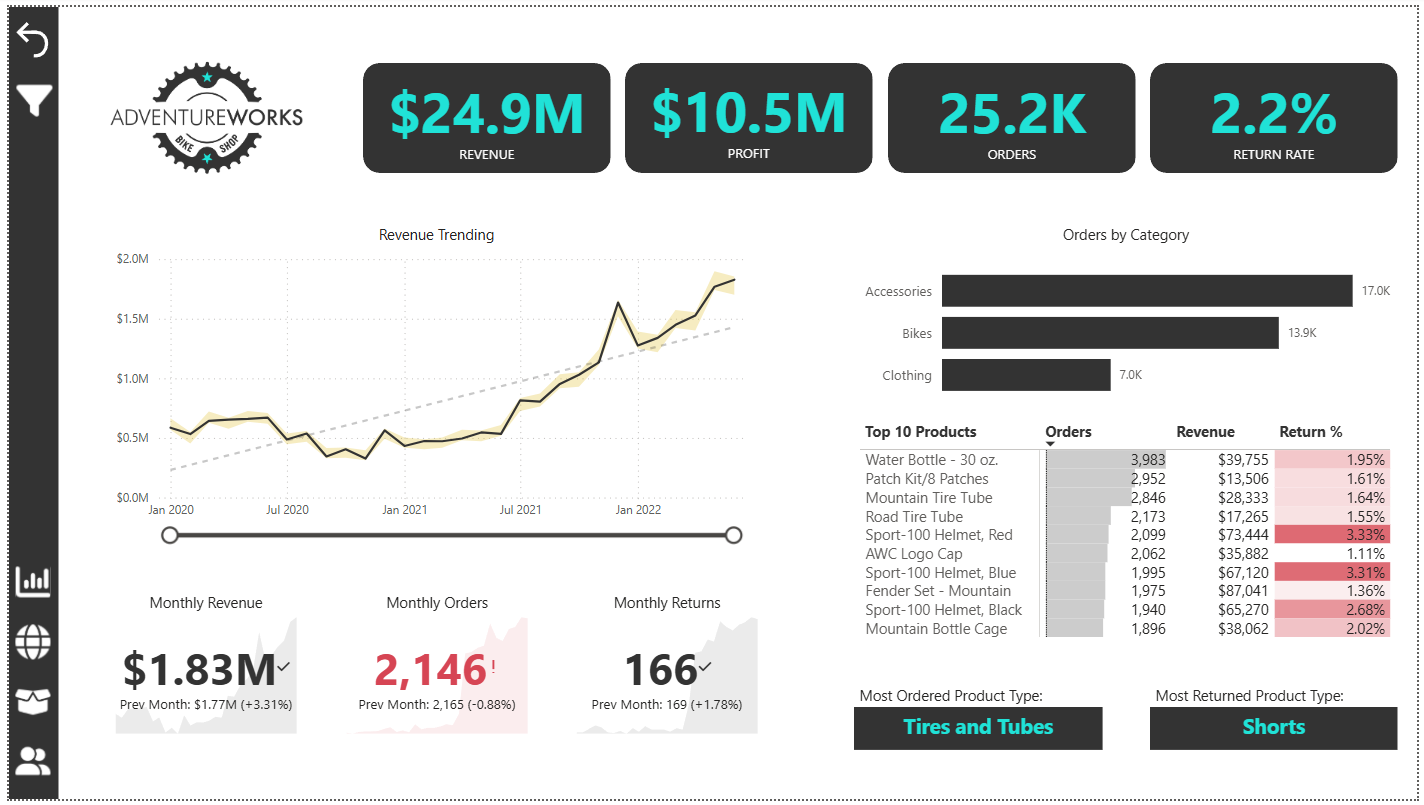

The dashboard page shown, as its layout file describes it:
{"tool":"powerbi","page":{"name":"Exec Dashboard","canvas":[1280,720],"ordinal":0},"visuals":[{"type":"image","title":"AW logo","box":[68.2,28.2,223.6,144.5],"z":0},{"type":"card","fields":{"Values":["Measure Table.Total Revenue"]},"box":[321.9,50.6,225.2,100.2],"z":0,"group":"g2"},{"type":"group","id":"g1","title":"KPI Backgrounds","box":[321.8,51,940.9,100],"z":0,"group":"g3"},{"type":"shape","box":[321.8,51,225.5,100],"z":0,"group":"g1"},{"type":"actionButton","box":[2.2,502.8,42.6,39.9],"z":0,"group":"g4"},{"type":"shape","title":"Left Nav Background","box":[0,0,45,720],"z":1000},{"type":"group","id":"g2","title":"KPI Values","box":[321.9,49.7,940.9,101.3],"z":1000,"group":"g3"},{"type":"card","fields":{"Values":["Measure Table.Total Profit"]},"box":[560.4,49.7,225.2,100.2],"z":1000,"group":"g2"},{"type":"shape","box":[560.3,51,225.5,100],"z":1000,"group":"g1"},{"type":"actionButton","box":[2.2,557.2,42.6,39.9],"z":1000,"group":"g4"},{"type":"group","id":"g3","title":"KPIs","box":[321.8,49.7,940.9,101.3],"z":2000},{"type":"card","fields":{"Values":["Measure Table.Total Orders"]},"box":[798.8,51,225.5,100],"z":2000,"group":"g2"},{"type":"shape","box":[798.8,51,225.5,100],"z":2000,"group":"g1"},{"type":"actionButton","box":[2.2,611.6,42.6,39.9],"z":2000,"group":"g4"},{"type":"shape","box":[1037.3,51,225.5,100],"z":3000,"group":"g1"},{"type":"card","fields":{"Values":["Measure Table.Return Rate"]},"box":[1037.3,51,225.5,100],"z":3000,"group":"g2"},{"type":"lineChart","title":"Revenue Trending","fields":{"Category":["Calendar Lookup.Start of Month"],"Y":["Measure Table.Total Revenue"]},"box":[91.8,198.2,593.6,292.7],"z":3000},{"type":"actionButton","box":[2.2,666,42.6,39.9],"z":3000,"group":"g4"},{"type":"kpi","title":"Monthly Revenue","fields":{"Goal":["Measure Table.Previous Month Revenue"],"Indicator":["Measure Table.Total Revenue"],"TrendLine":["Calendar Lookup.Start of Month"]},"box":[92.2,532.9,174.7,133],"z":4000},{"type":"kpi","title":"Monthly Orders","fields":{"Goal":["Measure Table.Previous Month Orders"],"Indicator":["Measure Table.Total Orders"],"TrendLine":["Calendar Lookup.Start of Month"]},"box":[301.5,532.9,174.7,133],"z":5000},{"type":"kpi","title":"Monthly Returns","fields":{"Goal":["Measure Table.Previous Month Returns"],"Indicator":["Measure Table.Total Returns"],"TrendLine":["Calendar Lookup.Start of Month"]},"box":[510.7,532.9,174.7,133],"z":6000},{"type":"clusteredBarChart","title":"Orders by Category","fields":{"Category":["Product Categories Lookup.CategoryName"],"Y":["Measure Table.Total Orders"]},"box":[768.2,198.2,494.5,172.7],"z":7000},{"type":"pivotTable","fields":{"Rows":["Product Categories Lookup.CategoryName","Product Lookup.ProductName"],"Values":["Measure Table.Total Orders","Measure Table.Total Revenue","Measure Table.Return Rate"]},"box":[767.9,371.5,494.8,213.7],"z":8000},{"type":"card","fields":{"Values":["Min(Product Subcategories Lookup.SubcategoryName)"]},"box":[767.9,636.7,226.1,39],"z":9000},{"type":"textbox","box":[767.9,611.8,176.5,36.4],"z":10000},{"type":"card","fields":{"Values":["Min(Product Subcategories Lookup.SubcategoryName)"]},"box":[1037.4,636.7,225.2,39],"z":11000},{"type":"textbox","box":[1037.4,611.8,185.3,36.4],"z":12000},{"type":"actionButton","box":[0,8,44.9,42.9],"z":13000},{"type":"group","id":"g4","title":"Navigation Buttons","box":[2.2,502.8,42.6,203.1],"z":14000},{"type":"actionButton","box":[2.7,63,40.8,45.2],"z":15000}]}

Visuals, with their boxes on the page's 1280x720 design canvas (x1, y1, x2, y2). These are canvas units, not pixel positions in the 1424x805 screenshot, which may show the page scaled, cropped or inside an application window:
"AW logo" image: <bbox>68, 28, 292, 173</bbox>
card - Measure Table.Total Revenue: <bbox>322, 51, 547, 151</bbox>
"KPI Backgrounds" group: <bbox>322, 51, 1263, 151</bbox>
shape: <bbox>322, 51, 547, 151</bbox>
actionButton: <bbox>2, 503, 45, 543</bbox>
"Left Nav Background" shape: <bbox>0, 0, 45, 720</bbox>
"KPI Values" group: <bbox>322, 50, 1263, 151</bbox>
card - Measure Table.Total Profit: <bbox>560, 50, 786, 150</bbox>
shape: <bbox>560, 51, 786, 151</bbox>
actionButton: <bbox>2, 557, 45, 597</bbox>
"KPIs" group: <bbox>322, 50, 1263, 151</bbox>
card - Measure Table.Total Orders: <bbox>799, 51, 1024, 151</bbox>
shape: <bbox>799, 51, 1024, 151</bbox>
actionButton: <bbox>2, 612, 45, 652</bbox>
shape: <bbox>1037, 51, 1263, 151</bbox>
card - Measure Table.Return Rate: <bbox>1037, 51, 1263, 151</bbox>
"Revenue Trending" lineChart: <bbox>92, 198, 685, 491</bbox>
actionButton: <bbox>2, 666, 45, 706</bbox>
"Monthly Revenue" kpi: <bbox>92, 533, 267, 666</bbox>
"Monthly Orders" kpi: <bbox>302, 533, 476, 666</bbox>
"Monthly Returns" kpi: <bbox>511, 533, 685, 666</bbox>
"Orders by Category" clusteredBarChart: <bbox>768, 198, 1263, 371</bbox>
pivotTable - Product Categories Lookup.CategoryName x Product Lookup.ProductName: <bbox>768, 372, 1263, 585</bbox>
card - Min(Product Subcategories Lookup.SubcategoryName): <bbox>768, 637, 994, 676</bbox>
textbox: <bbox>768, 612, 944, 648</bbox>
card - Min(Product Subcategories Lookup.SubcategoryName): <bbox>1037, 637, 1263, 676</bbox>
textbox: <bbox>1037, 612, 1223, 648</bbox>
actionButton: <bbox>0, 8, 45, 51</bbox>
"Navigation Buttons" group: <bbox>2, 503, 45, 706</bbox>
actionButton: <bbox>3, 63, 44, 108</bbox>
